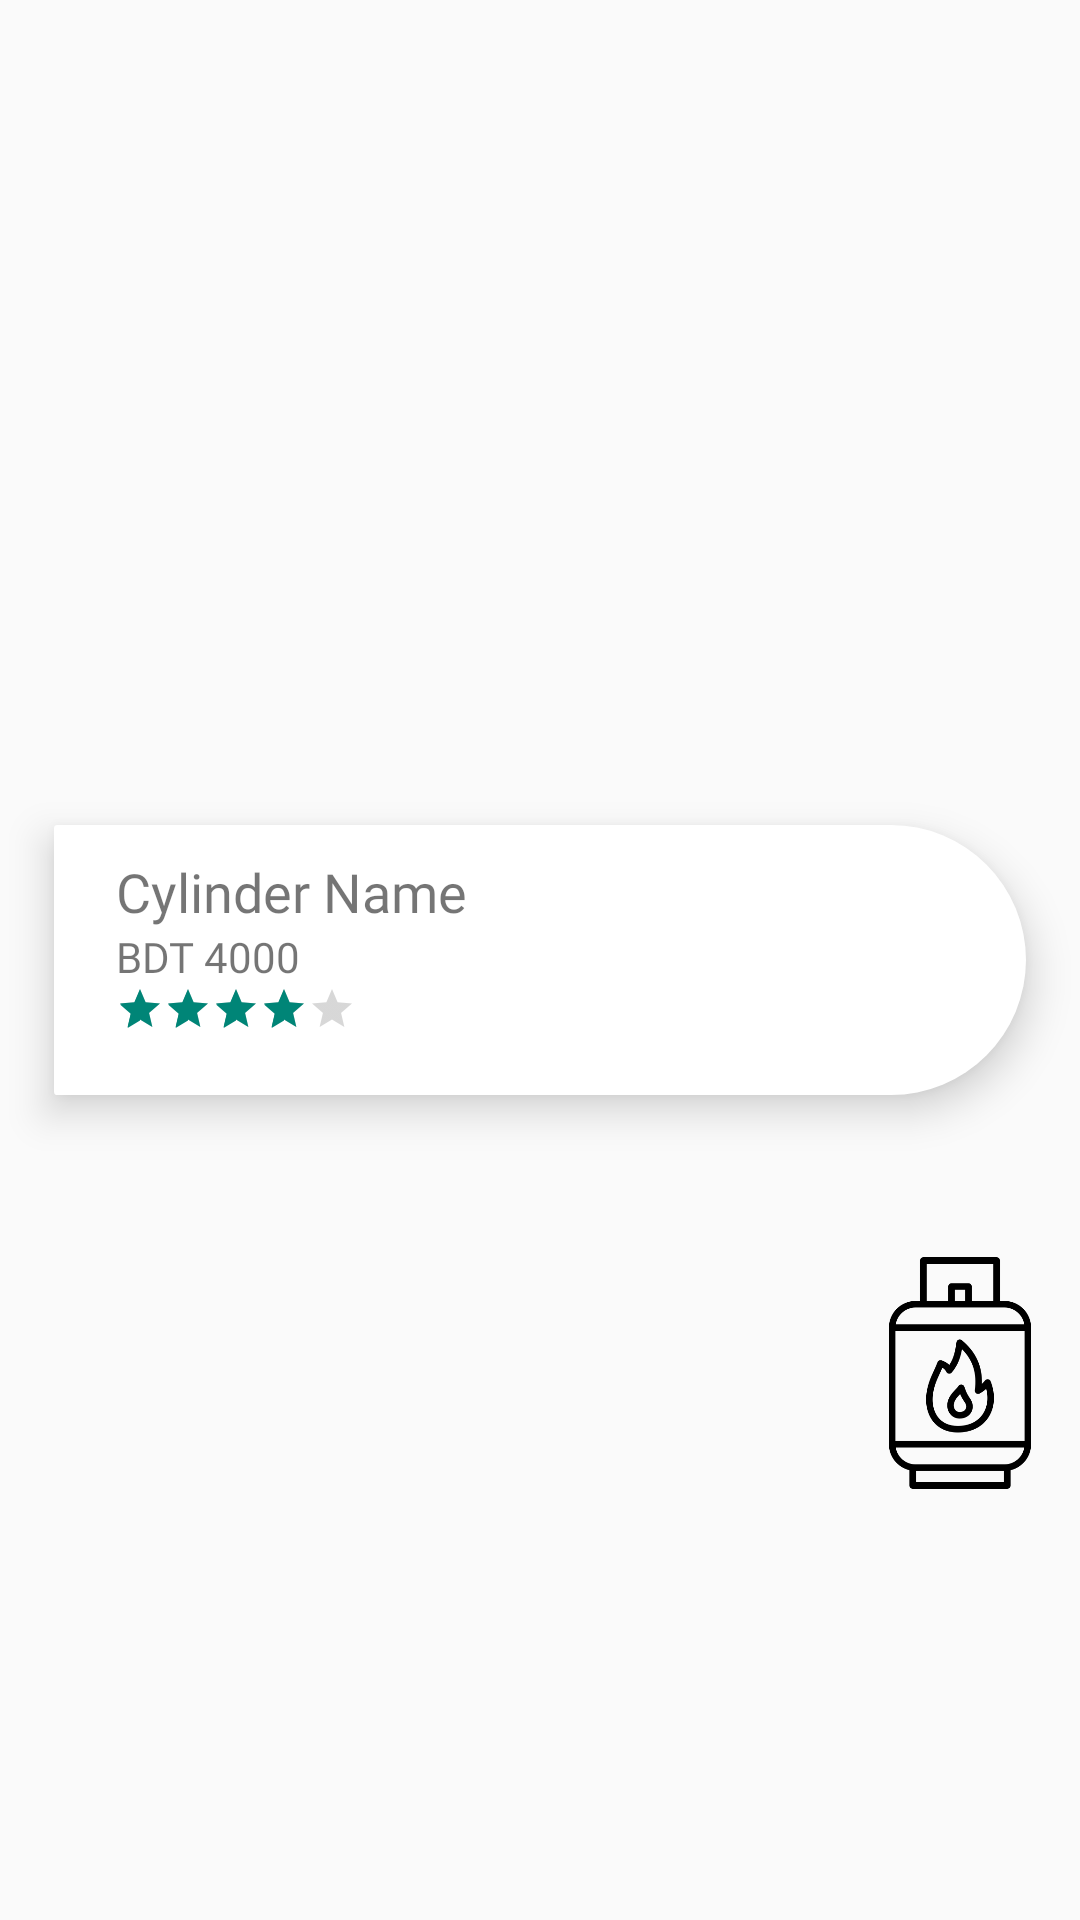

Point at icon controls on the screen. Image size 1080px×1920px, points as [x,y].
product Image: [960,1373]
